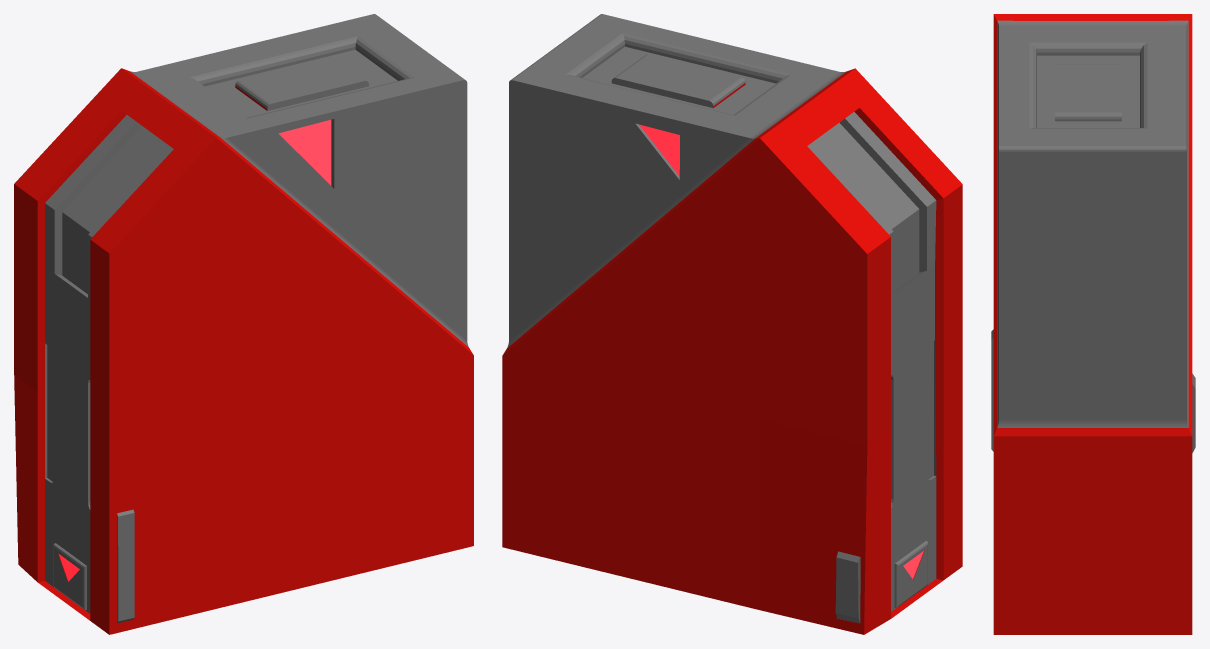
File: Chest_1.fbx
3 renders of one model, left to right at view 1: azimuth 30°, elevation 25°; view 2: azimuth 150°, elevation 25°; view 3: azimuth 270°, elevation 25°, orthographic. The views are drawn at different scales.
Visible parts, largest first — view 1: Chest1; view 2: Chest1; view 3: Chest1.
Boxes of the visible parts, <box> form: Chest1: <box>14,14,473,634</box>; Chest1: <box>502,14,962,634</box>; Chest1: <box>991,14,1195,634</box>.
Bounding box in the file's own units: 37.16 × 45.93 × 17.33.
